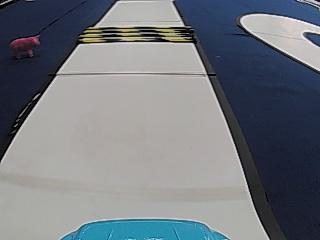bump: (76, 21, 196, 51)
